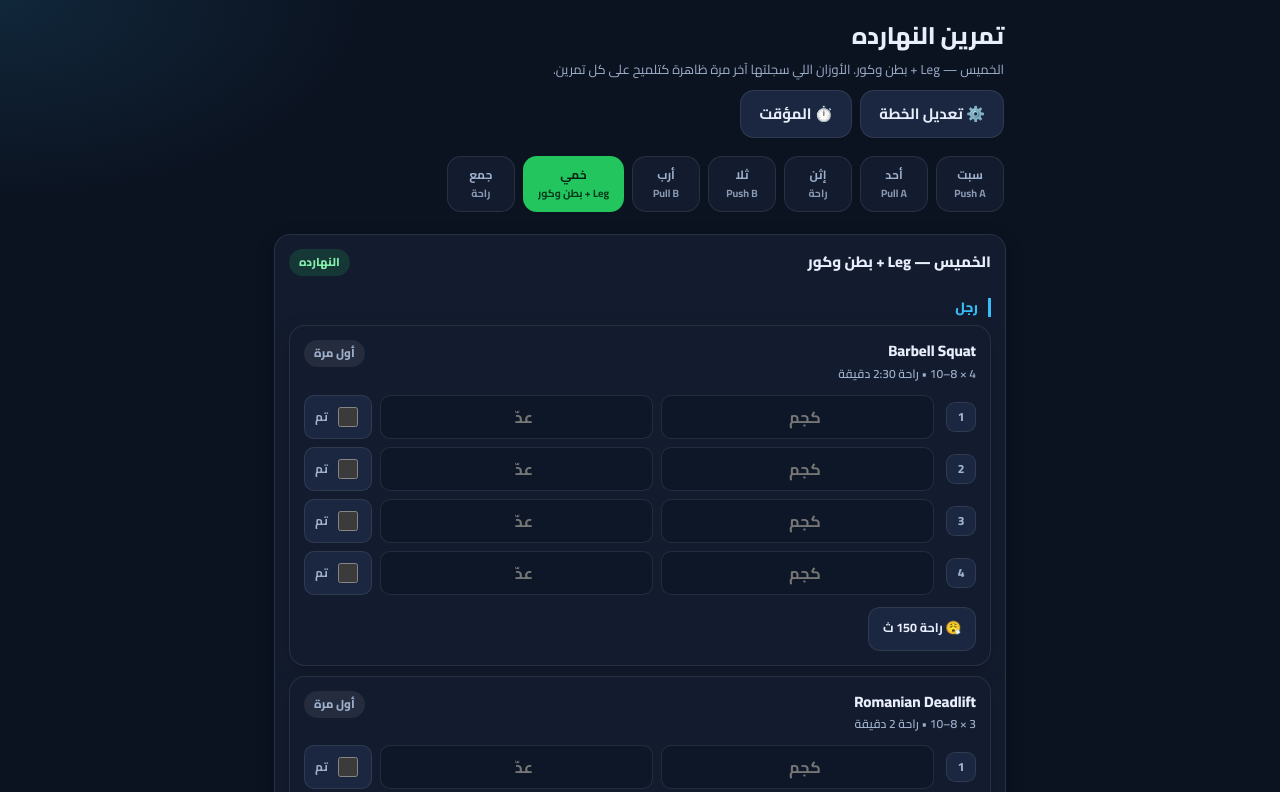
it: WorkoutPage › shows the last session weight hint matched by exercise id
Click the button "سبت Push A" at (970,184), box x1=936 y1=156 x2=1004 y2=212
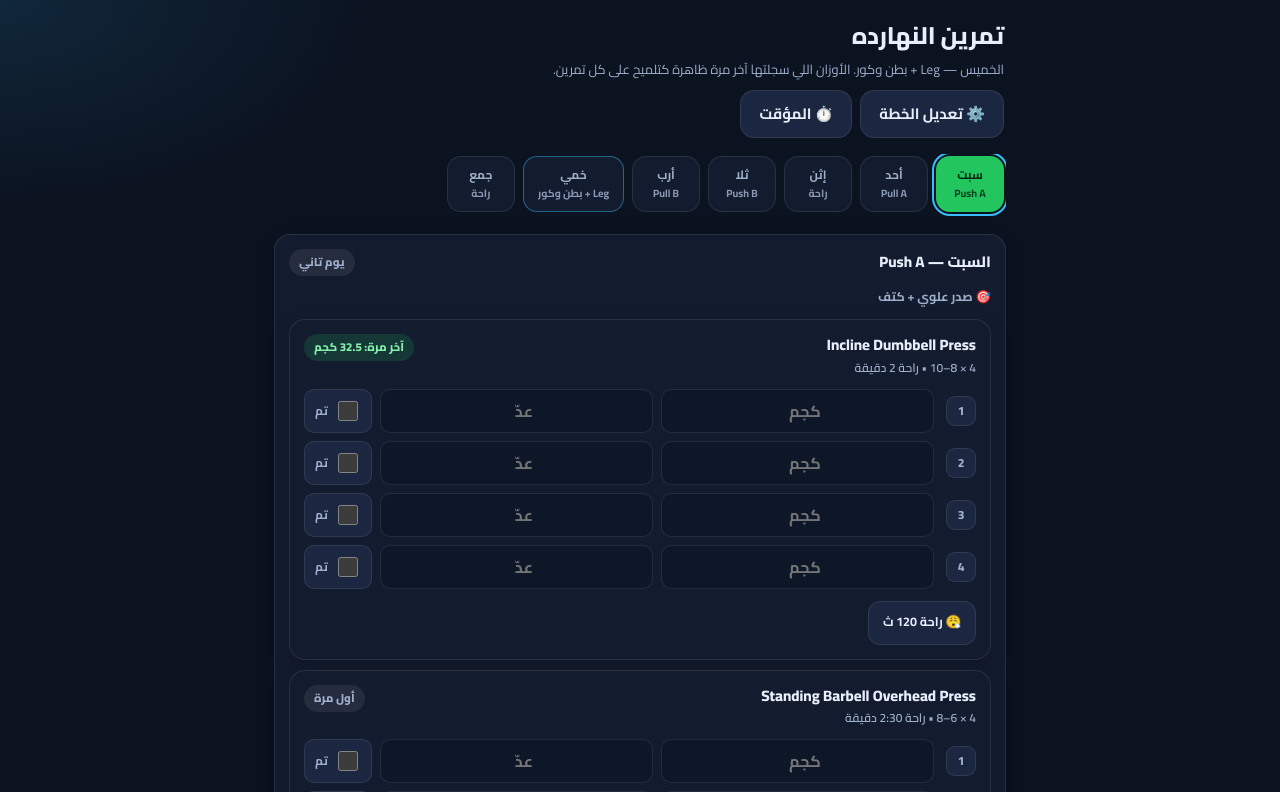
Expected: the text "آخر مرة: 32.5 كجم" is shown, x1=304 y1=334 x2=414 y2=361
